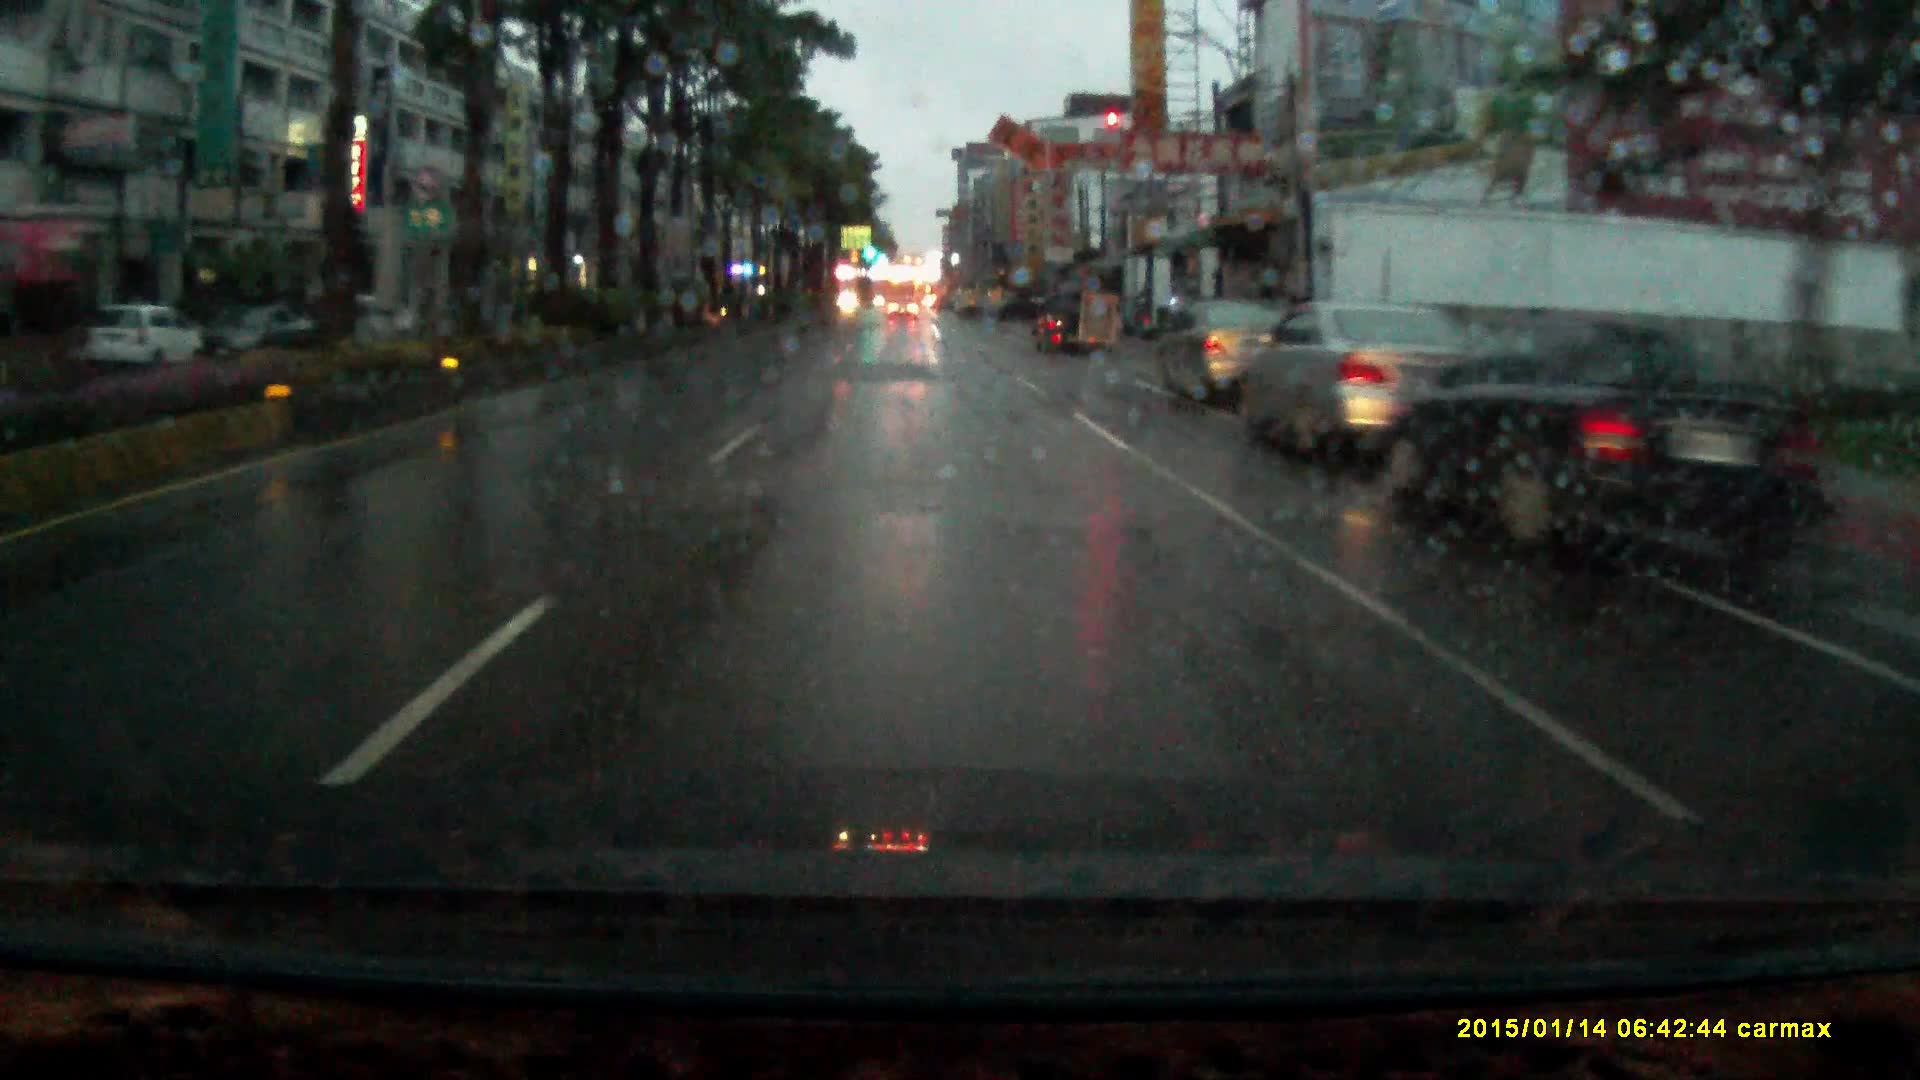vehicle: (1414, 309, 1701, 535), (1240, 295, 1567, 458), (1154, 299, 1294, 409), (276, 295, 405, 353), (108, 309, 207, 371), (1033, 287, 1102, 363), (886, 297, 920, 326)
